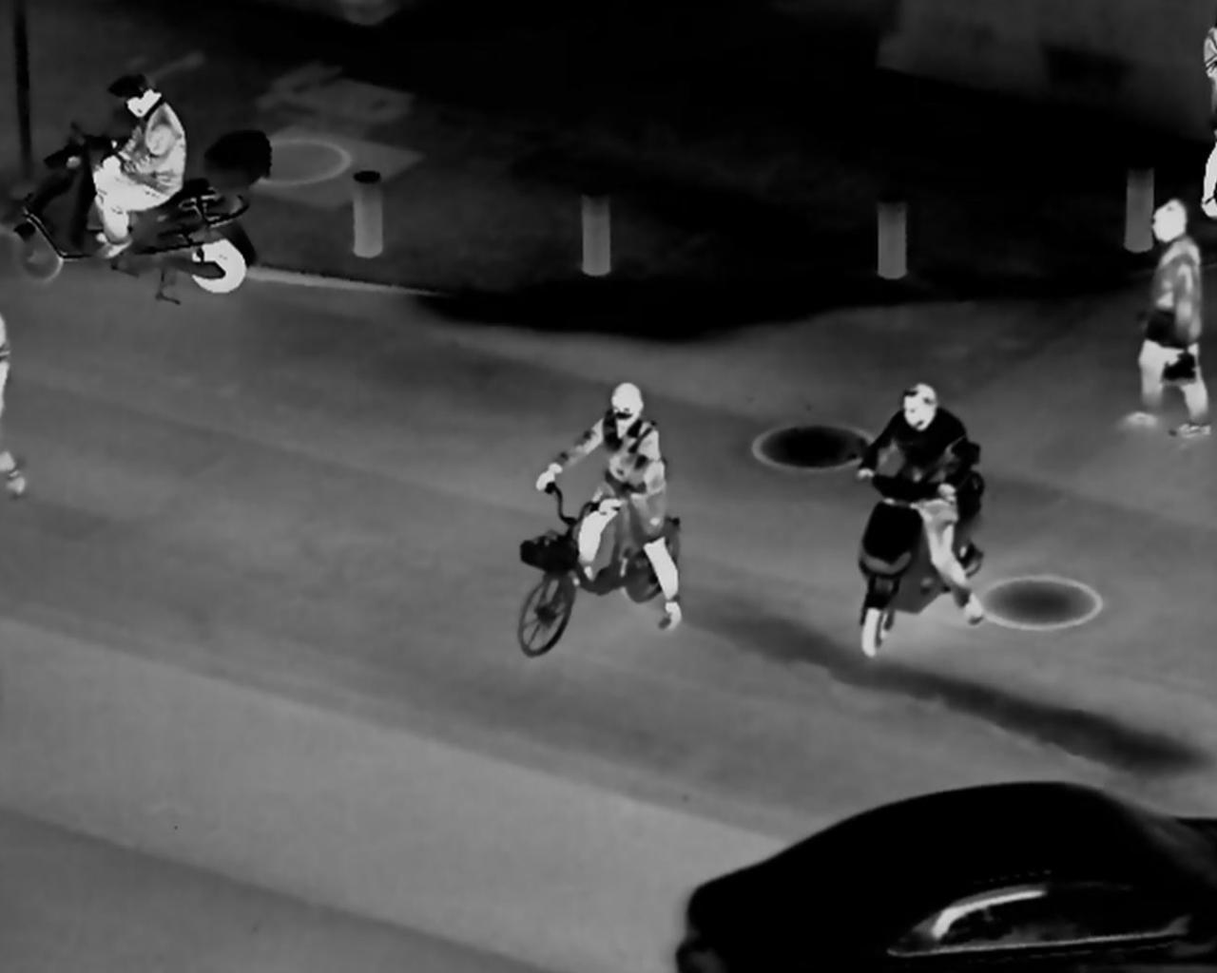person: (537, 367, 688, 633), (857, 372, 997, 658), (78, 60, 203, 263), (1123, 177, 1208, 454)
